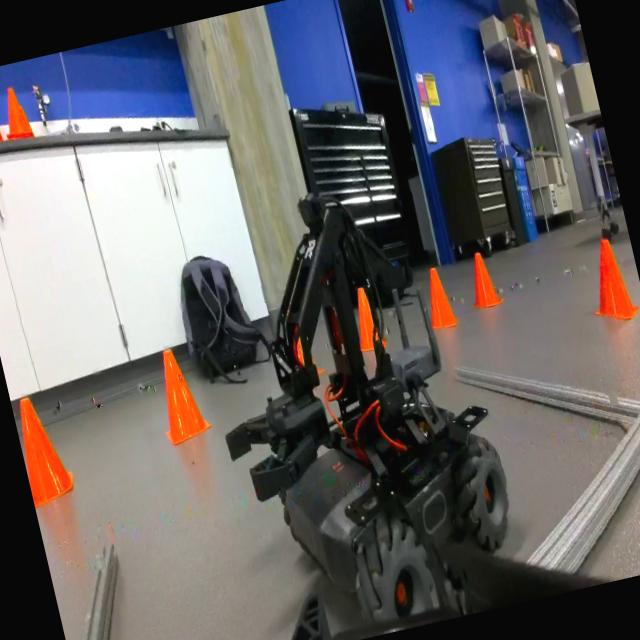cone: (144, 336, 218, 451), (10, 388, 78, 503), (577, 228, 640, 332), (416, 260, 464, 332), (459, 246, 507, 314)
robot: (173, 163, 534, 640)
